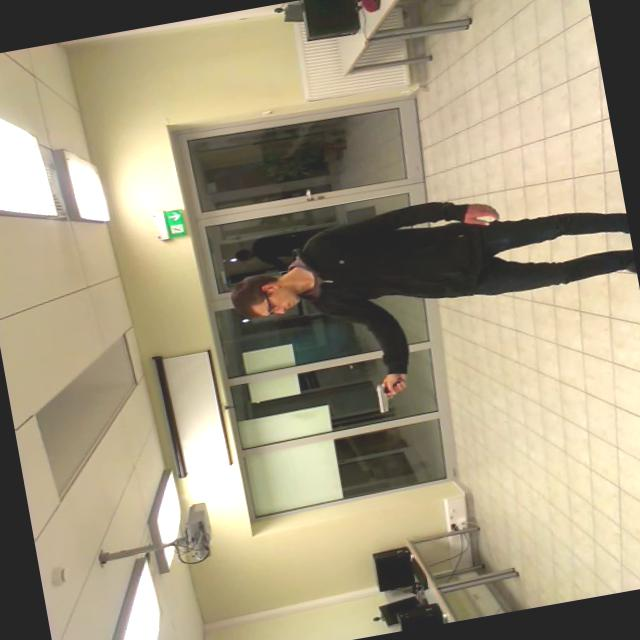handgun: (359, 362, 421, 421)
